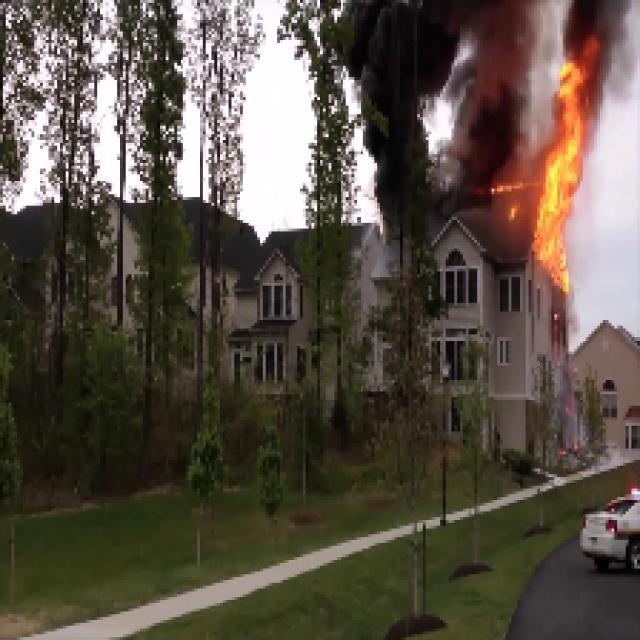Fire: (540, 76, 580, 274)
Smoke: (353, 8, 516, 185), (563, 0, 620, 63)
